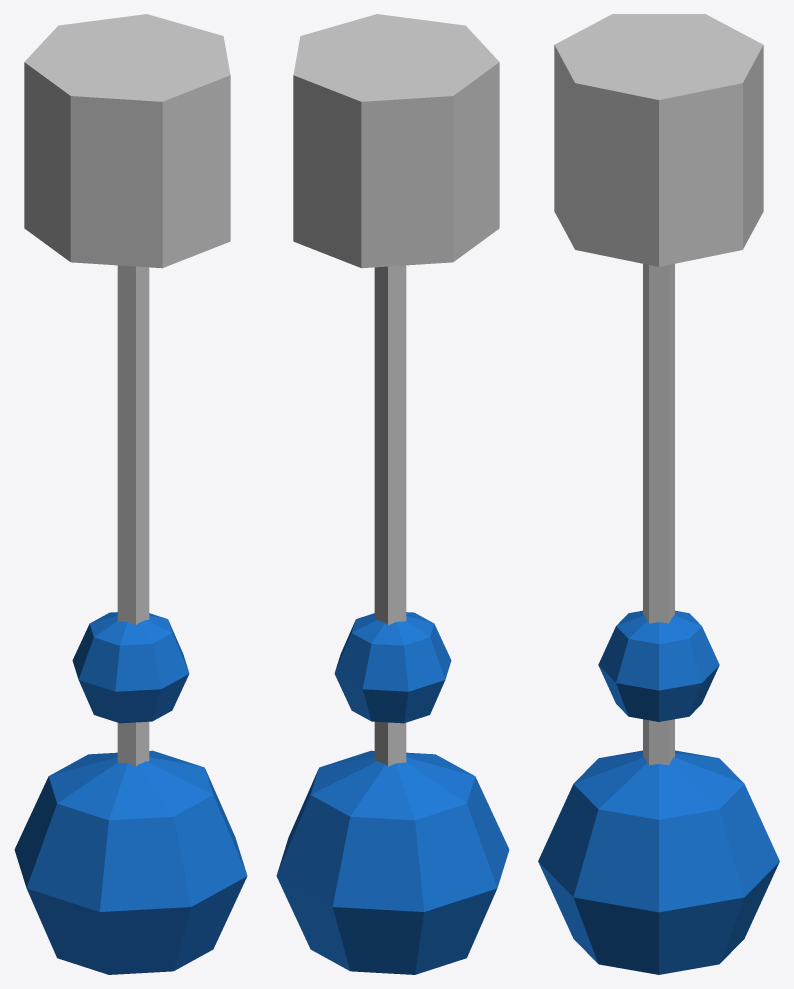
The model's file is SM_overhead_lamp4.fbx.
3 views of the same model, side by side, from view 1: azimuth 30°, elevation 25°; view 2: azimuth 150°, elevation 25°; view 3: azimuth 270°, elevation 25° (orthographic).
Visible parts, largest first — view 1: overhead_lamp4; view 2: overhead_lamp4; view 3: overhead_lamp4.
Boxes of the visible parts, x1,y1,x2,y2 form: overhead_lamp4: [14, 14, 247, 974]; overhead_lamp4: [276, 14, 509, 974]; overhead_lamp4: [538, 14, 779, 974].
Size of the model in its own units: 33.84 by 141 by 33.84.
